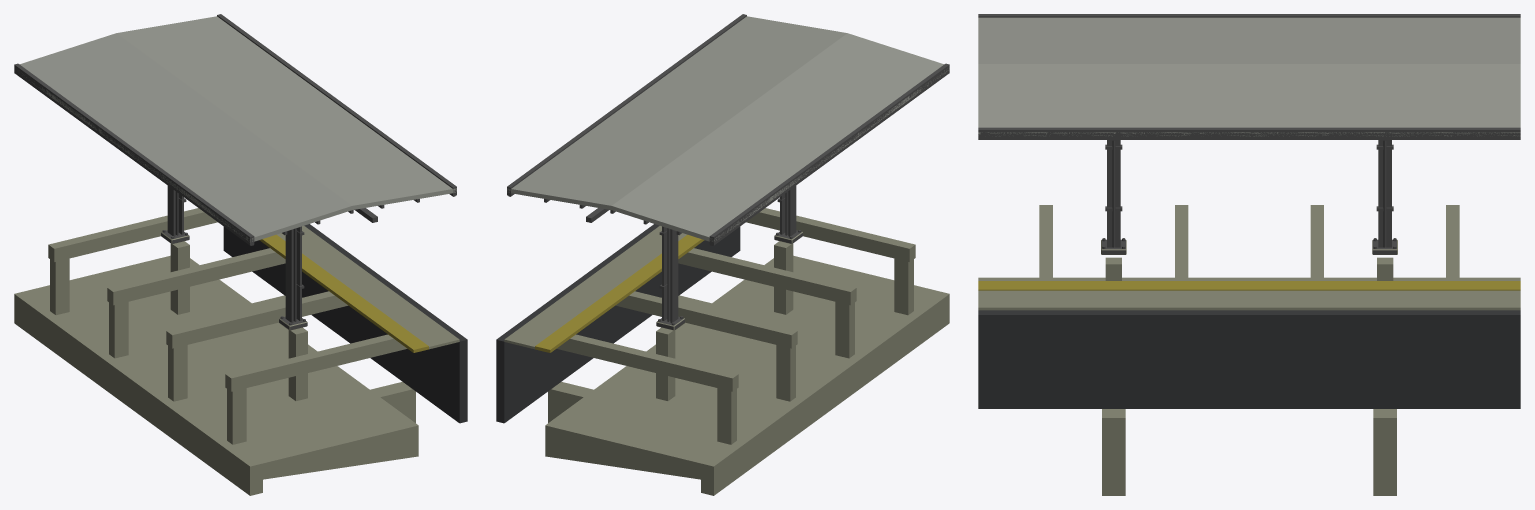
File: platform_close.fbx
3 renders of one model, left to right at view 1: azimuth 30°, elevation 25°; view 2: azimuth 150°, elevation 25°; view 3: azimuth 270°, elevation 25°, orthographic. The views are drawn at different scales.
Visible parts, largest first — view 1: p471/platform_close; view 2: p471/platform_close; view 3: p471/platform_close.
Part boxes in pixels (x1,y1,x2,y2): p471/platform_close: [14, 14, 467, 495]; p471/platform_close: [496, 14, 949, 495]; p471/platform_close: [978, 14, 1520, 495].
Bounding box in the file's own units: 4.3 × 5.96 × 8.
